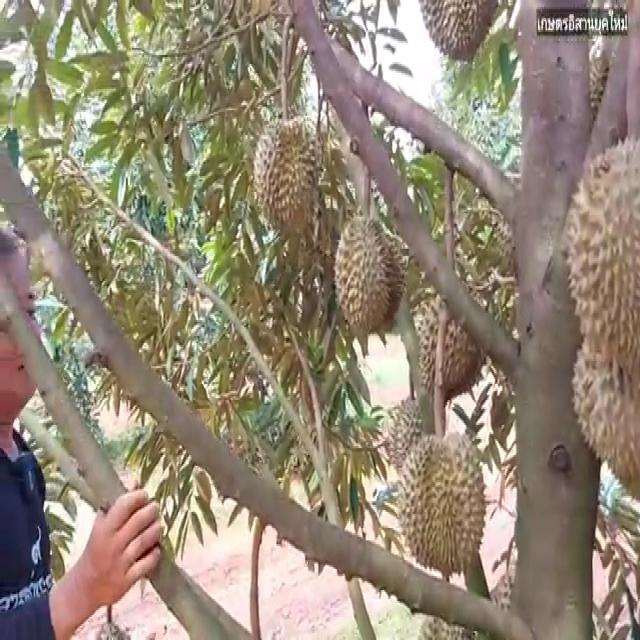durian: (557, 134, 639, 362), (394, 420, 489, 579), (564, 321, 638, 518), (332, 208, 409, 350), (250, 105, 324, 238), (409, 283, 491, 402), (416, 0, 500, 69), (385, 399, 443, 486)
